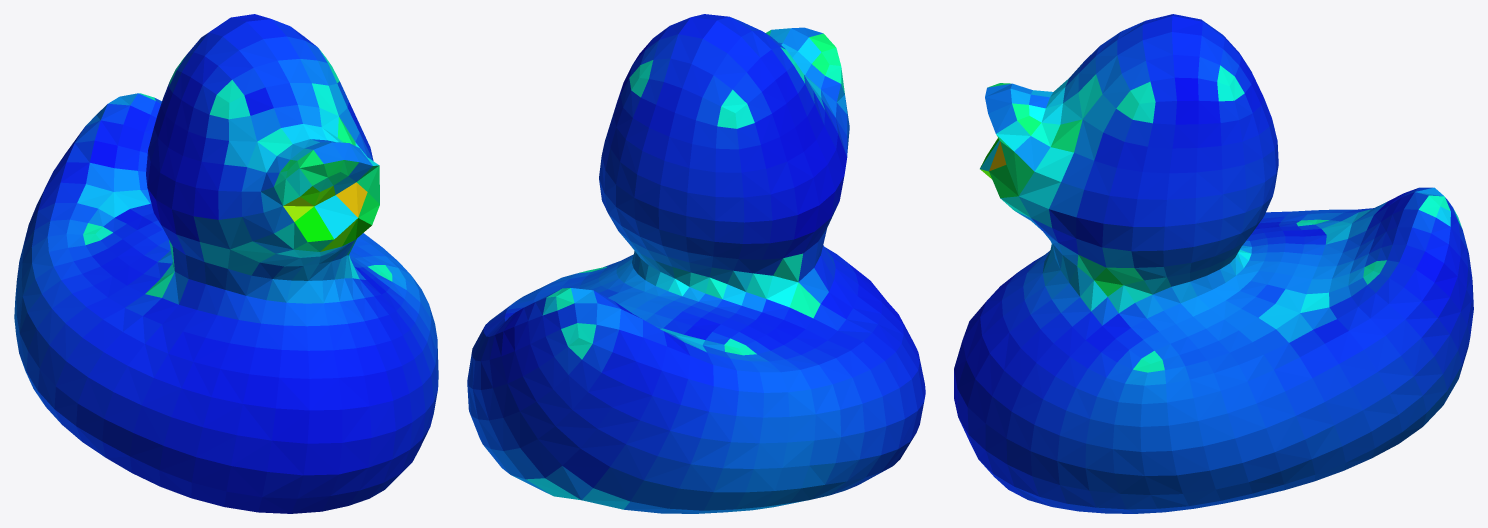
The model's file is duck_opt_quality.obj.
The picture shows the model from 3 angles, left to right: view 1: azimuth 30°, elevation 25°; view 2: azimuth 150°, elevation 25°; view 3: azimuth 270°, elevation 25°; orthographic projection. The views are drawn at different scales.
Bounding box in the file's own units: 70.29 × 79.51 × 82.82.
